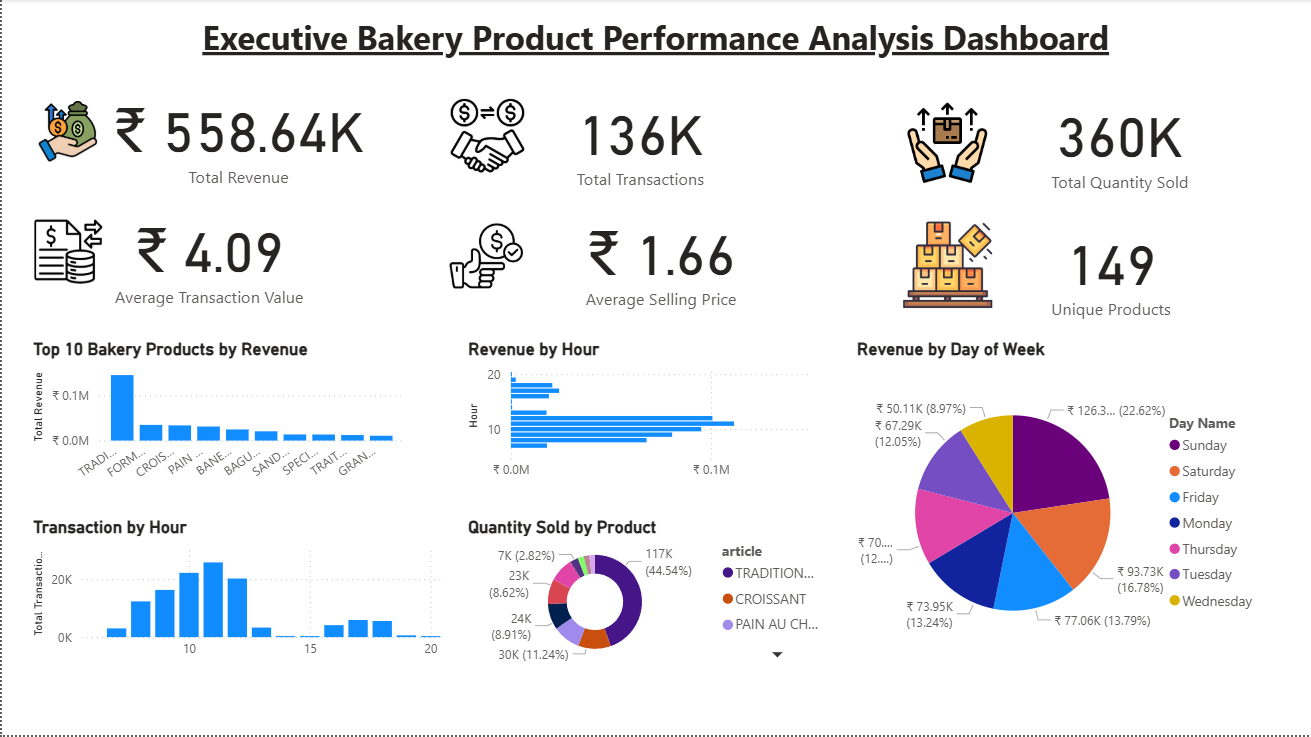

The dashboard page shown, as its layout file describes it:
{"tool":"powerbi","page":{"name":"Executive Bakery Product Performance Analysis Dashboard","canvas":[1280,720],"ordinal":0},"visuals":[{"type":"textbox","box":[9.8,11,1259.5,64.8],"z":0},{"type":"card","fields":{"Values":["Bakery_sales.Total Revenue"]},"box":[102.7,80.7,258,108.8],"z":1000},{"type":"card","fields":{"Values":["Bakery_sales.Total Transactions"]},"box":[549.1,75.8,151.6,123.5],"z":2000},{"type":"card","fields":{"Values":["Bakery_sales.Total Quantity Sold"]},"box":[1008.8,80.7,170,118.6],"z":3000},{"type":"card","fields":{"Values":["Bakery_sales.Average Transaction Value"]},"box":[102.7,199.3,200.5,106.4],"z":4000},{"type":"card","fields":{"Values":["Bakery_sales.Unique Products"]},"box":[1008.8,209.1,152.9,111.3],"z":5000},{"type":"card","fields":{"Values":["Bakery_sales.Average Selling Price"]},"box":[549.1,201.8,192,106.4],"z":6000},{"type":"clusteredColumnChart","title":"Top 10 Bakery Products by Revenue","fields":{"Category":["Bakery_sales.article"],"Y":["Bakery_sales.Total Revenue"]},"box":[26.1,332.1,373.2,149.6],"z":7000},{"type":"clusteredBarChart","title":"Revenue by Hour","fields":{"Category":["Bakery_sales.Hour"],"Y":["Bakery_sales.Total Revenue"]},"box":[451.2,332.6,364.4,146.7],"z":8000},{"type":"clusteredColumnChart","title":"Transaction by Hour","fields":{"Category":["Bakery_sales.Hour"],"Y":["Bakery_sales.Total Transactions"]},"box":[26.1,506.3,408.9,148.2],"z":10000},{"type":"donutChart","title":"Quantity Sold by Product","fields":{"Category":["Bakery_sales.article"],"Y":["Bakery_sales.Total Quantity Sold"]},"box":[451.5,506.3,365,148.2],"z":11000},{"type":"pieChart","title":"Revenue by Day of Week","fields":{"Category":["Bakery_sales.Day Name"],"Y":["Bakery_sales.Total Revenue"]},"box":[831.5,332.6,406,321.6],"z":12000},{"type":"image","box":[26.9,209.1,75.8,75.8],"z":13000},{"type":"image","box":[434.1,92.9,81.9,81.9],"z":14000},{"type":"image","box":[858.4,94.2,132.1,92.9],"z":15000},{"type":"image","box":[876.8,211.6,96.6,96.6],"z":16000},{"type":"image","box":[431.7,209.1,84.4,84.4],"z":17000},{"type":"image","box":[25.7,92.9,77,73.4],"z":18000}]}

Visuals, with their boxes in screenshot pixels (x1, y1, x2, y2), scaled from the page's 1280x720 canvas onto the 1311x737 screenshot:
textbox: [left=10, top=11, right=1300, bottom=78]
card - Bakery_sales.Total Revenue: [left=105, top=83, right=369, bottom=194]
card - Bakery_sales.Total Transactions: [left=562, top=78, right=718, bottom=204]
card - Bakery_sales.Total Quantity Sold: [left=1033, top=83, right=1207, bottom=204]
card - Bakery_sales.Average Transaction Value: [left=105, top=204, right=311, bottom=313]
card - Bakery_sales.Unique Products: [left=1033, top=214, right=1190, bottom=328]
card - Bakery_sales.Average Selling Price: [left=562, top=207, right=759, bottom=315]
"Top 10 Bakery Products by Revenue" clusteredColumnChart: [left=27, top=340, right=409, bottom=493]
"Revenue by Hour" clusteredBarChart: [left=462, top=340, right=835, bottom=491]
"Transaction by Hour" clusteredColumnChart: [left=27, top=518, right=446, bottom=670]
"Quantity Sold by Product" donutChart: [left=462, top=518, right=836, bottom=670]
"Revenue by Day of Week" pieChart: [left=852, top=340, right=1267, bottom=670]
image: [left=28, top=214, right=105, bottom=292]
image: [left=445, top=95, right=528, bottom=179]
image: [left=879, top=96, right=1014, bottom=192]
image: [left=898, top=217, right=997, bottom=315]
image: [left=442, top=214, right=529, bottom=300]
image: [left=26, top=95, right=105, bottom=170]
